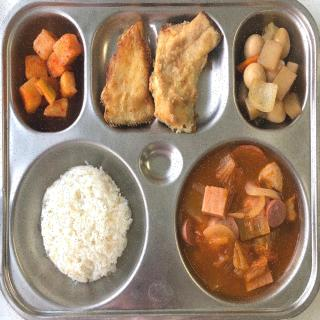Nasi: (39, 164, 131, 286)
